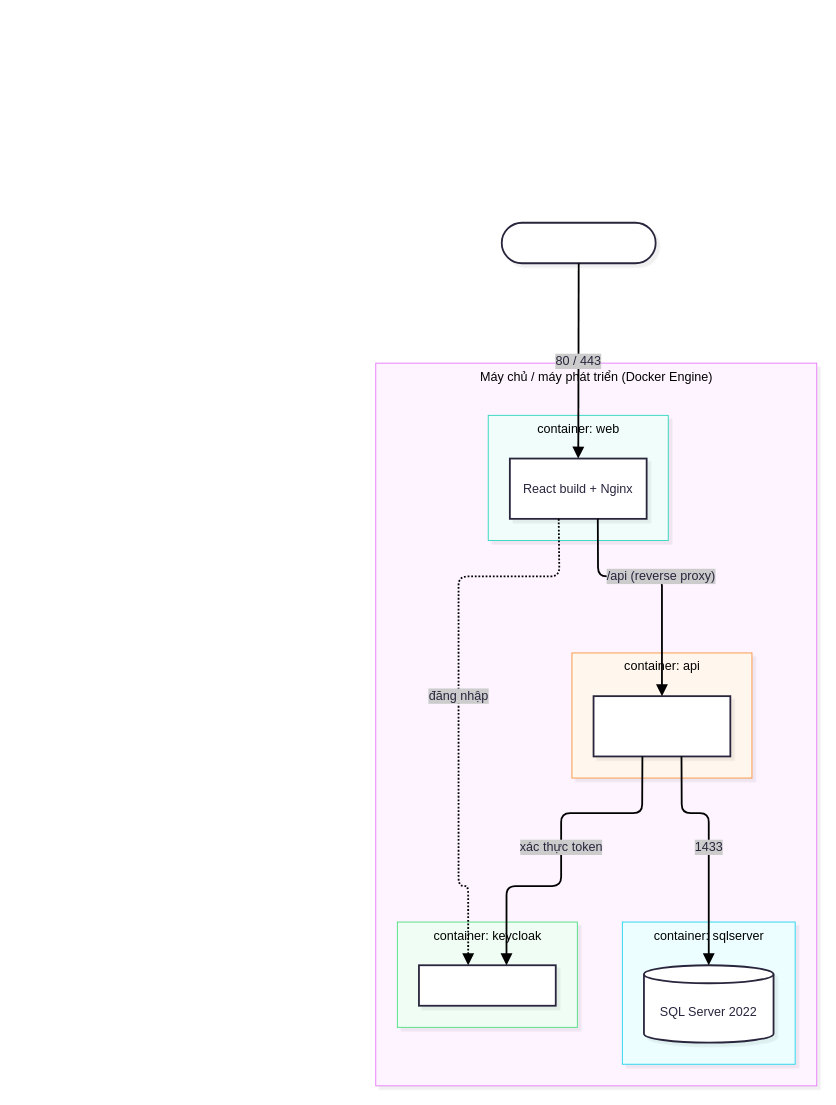
This 836x1105 diagram has some shape labels left out. The centre of each missing label's shape, as x and y in pixels:
"ASP.NET Core 8 API" goes at [663,727].
"Keycloak OIDC" goes at [489,987].
"Người dùng" goes at [580,244].
